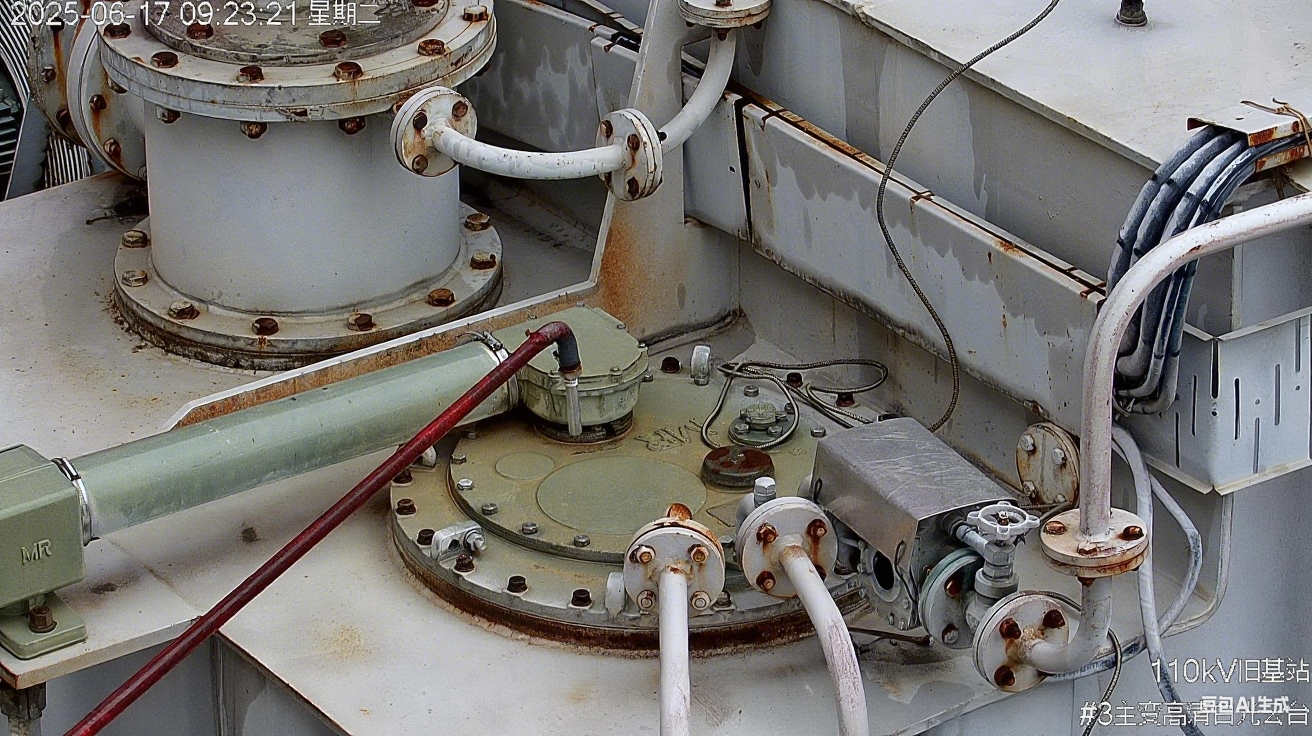HTX: (35, 0, 773, 430), (706, 77, 1111, 359), (389, 466, 593, 608), (1014, 431, 1146, 588), (940, 563, 1067, 692), (627, 500, 724, 608), (1184, 94, 1312, 175), (753, 516, 826, 595), (1, 673, 47, 735), (702, 444, 773, 472), (87, 578, 118, 597), (237, 523, 261, 546), (1181, 236, 1206, 258)
